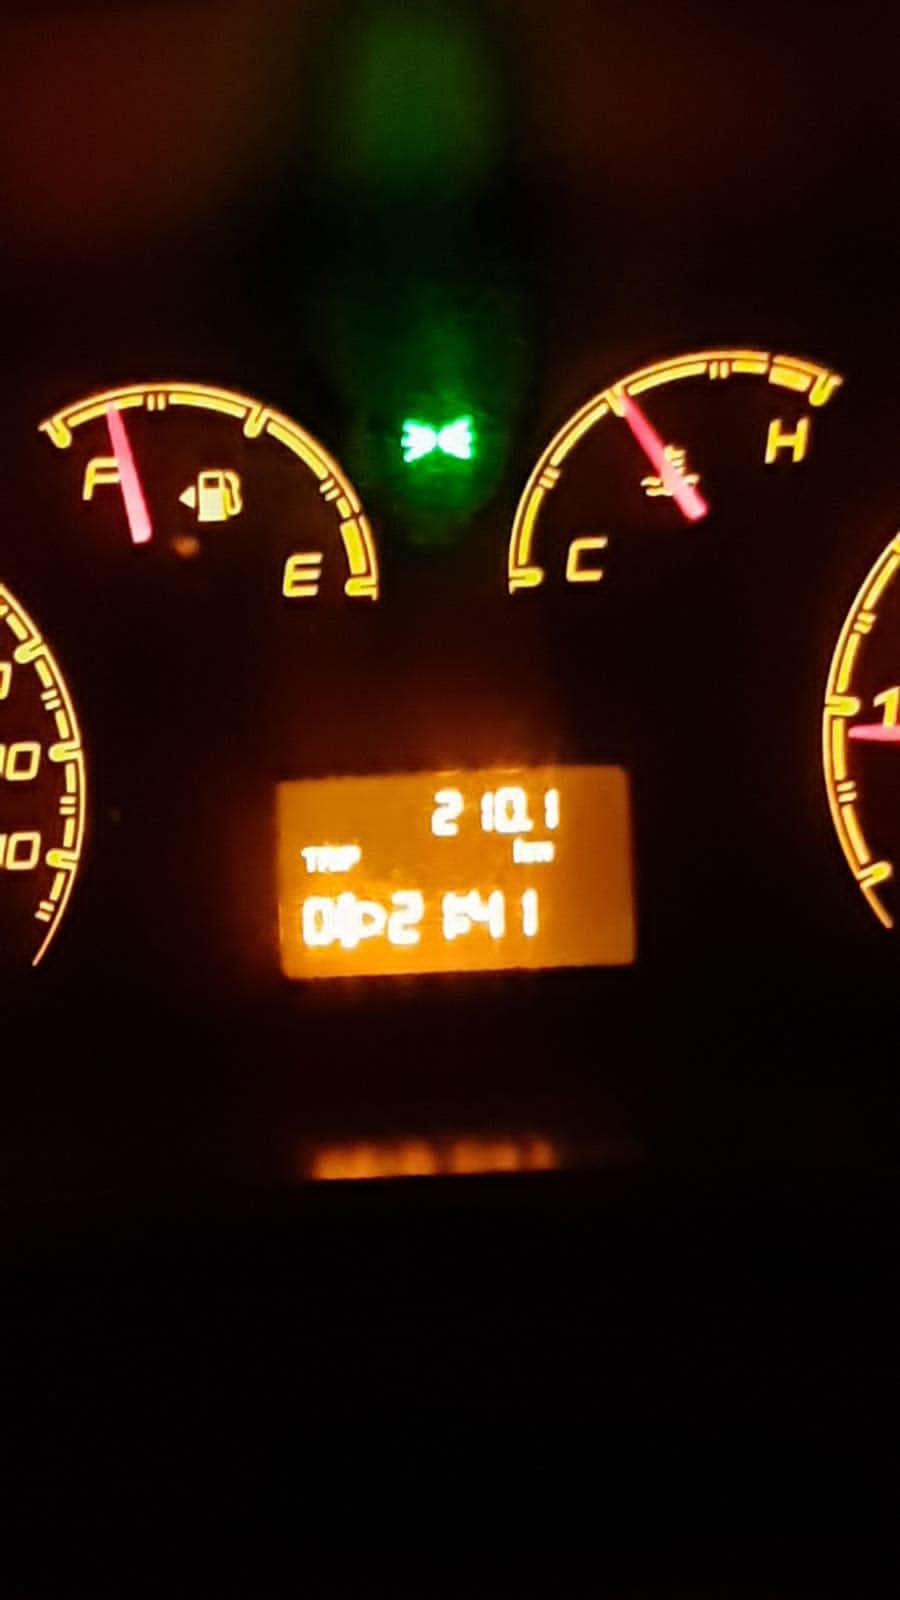,: (521, 818, 536, 832)
0: (299, 895, 336, 947), (495, 785, 527, 834)
1: (519, 885, 541, 937), (440, 889, 458, 942), (541, 786, 562, 831), (478, 789, 495, 832)
2: (386, 889, 424, 946), (429, 786, 464, 838)
4: (465, 887, 507, 942)
X: (527, 838, 556, 864), (343, 843, 360, 873), (299, 846, 318, 873), (318, 846, 333, 873), (514, 836, 527, 864), (458, 892, 465, 936), (334, 845, 342, 875)
odometer: (267, 760, 642, 987)
